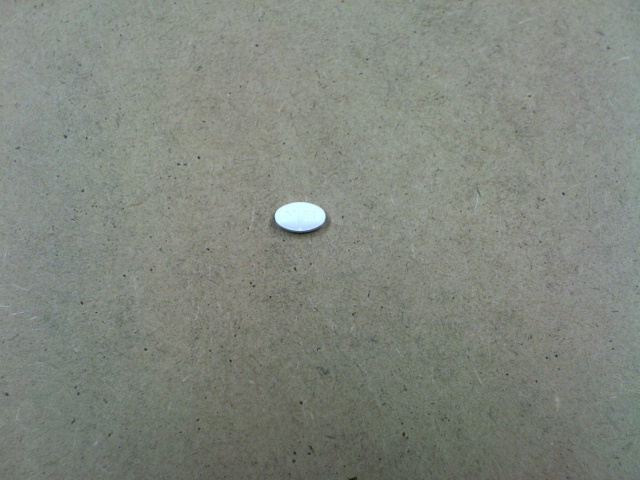1: (311, 208, 320, 222)
5: (302, 209, 311, 222)
M: (283, 209, 297, 225)
|: (295, 202, 304, 232)
